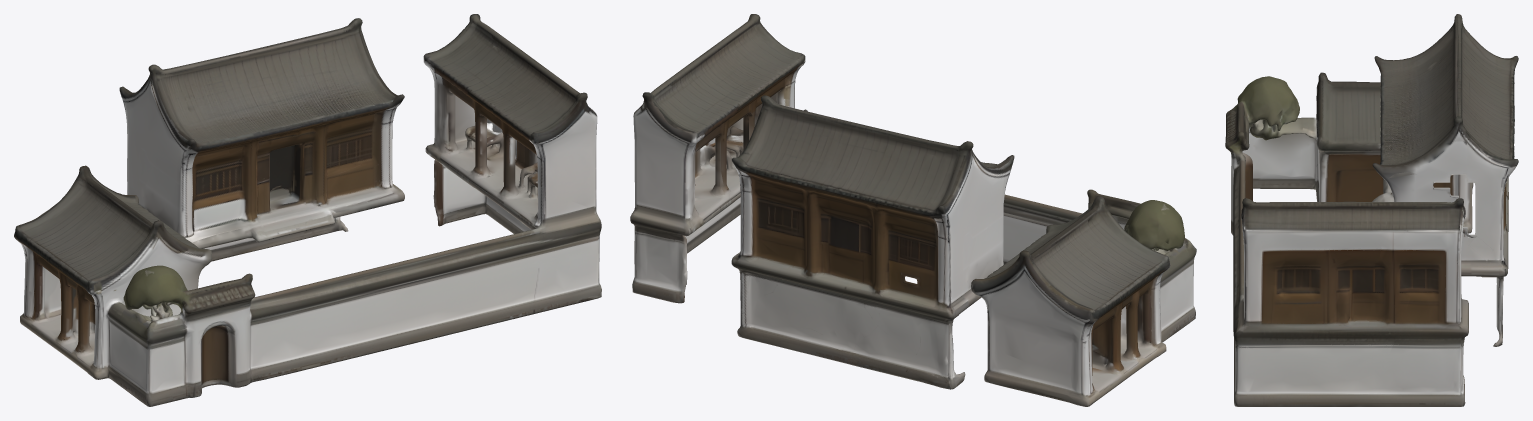
3 views of the same model, side by side, from view 1: azimuth 30°, elevation 25°; view 2: azimuth 150°, elevation 25°; view 3: azimuth 270°, elevation 25° (orthographic).
Parts seen in each view (by area): view 1: material.001; view 2: material.001; view 3: material.001.
Boxes of the visible parts, x1=… form: material.001: x1=14, y1=14, x2=601, y2=406; material.001: x1=630, y1=14, x2=1196, y2=406; material.001: x1=1225, y1=14, x2=1518, y2=406.
Bounding box in the file's own units: 1 × 0.4719 × 0.5446.
1 material, 1 textured.
